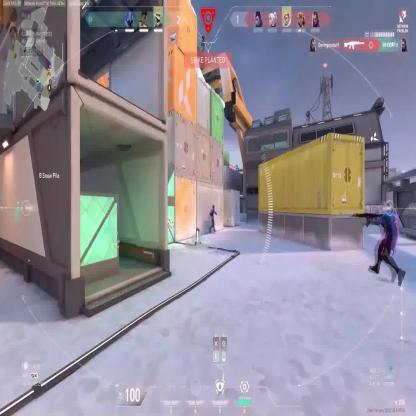enemy: (209, 204, 216, 233)
enemy_head: (212, 204, 215, 210)
